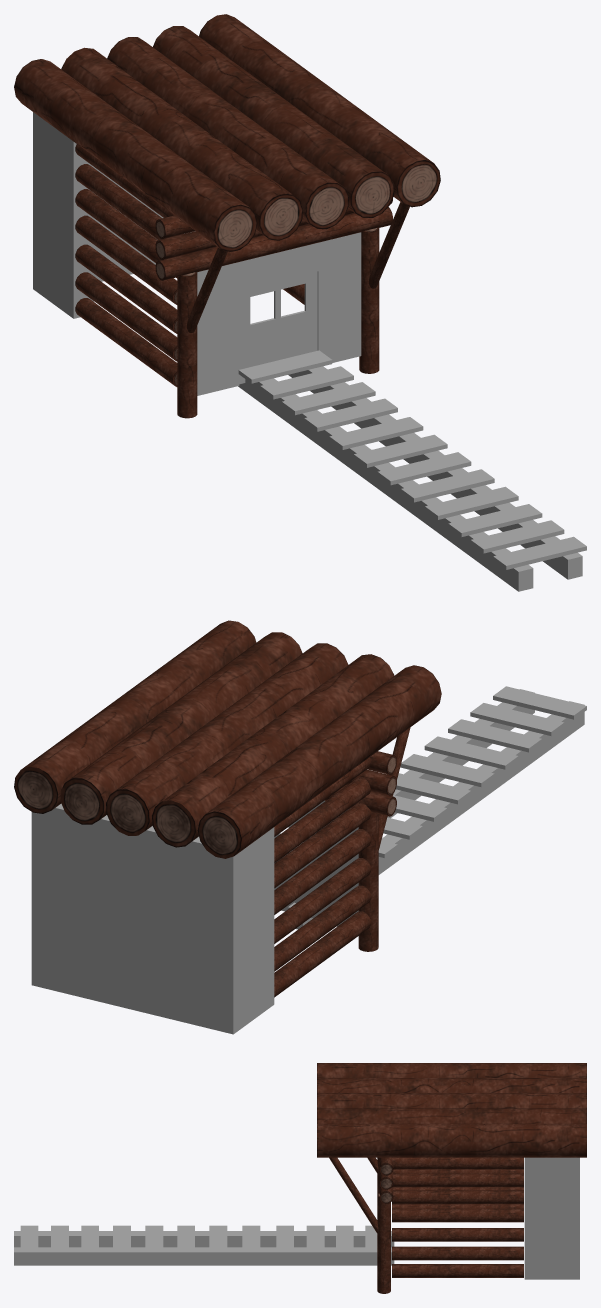
The model's file is MineShaft_Whole_GEO.fbx.
The picture shows the model from 3 angles, top to bottom: view 1: azimuth 30°, elevation 25°; view 2: azimuth 150°, elevation 25°; view 3: azimuth 270°, elevation 25°; orthographic projection. The views are drawn at different scales.
Parts seen in each view (by area): view 1: Horizontal_Log_GEO81, Door_Frame_GEO, Horizontal_Log_GEO85, Horizontal_Log_GEO83, Horizontal_Log_GEO84, Horizontal_Log_GEO82, Mine_Frame_GEO, Rail_GEO, Door_GEO, Horizontal_Log_GEO80, Rail_GEO1, Horizontal_Log_GEO87 (+23 smaller); view 2: Mine_Frame_GEO, Horizontal_Log_GEO81, Horizontal_Log_GEO85, Horizontal_Log_GEO83, Horizontal_Log_GEO84, Horizontal_Log_GEO82, Rail_GEO, Horizontal_Log_GEO74, Horizontal_Log_GEO76, Horizontal_Log_GEO70, Horizontal_Log_GEO72, Horizontal_Log_GEO66 (+16 smaller); view 3: Horizontal_Log_GEO85, Mine_Frame_GEO, Rail_GEO1, Horizontal_Log_GEO84, Horizontal_Log_GEO81, Horizontal_Log_GEO82, Horizontal_Log_GEO83, Rail_GEO, Horizontal_Log_GEO71, Horizontal_Log_GEO75, Horizontal_Log_GEO69, Horizontal_Log_GEO67 (+20 smaller).
Boxes of the visible parts, bbox=[...] form: Horizontal_Log_GEO81: bbox=[14, 59, 257, 251]; Door_Frame_GEO: bbox=[197, 232, 361, 395]; Horizontal_Log_GEO85: bbox=[199, 14, 440, 207]; Horizontal_Log_GEO83: bbox=[107, 37, 348, 229]; Horizontal_Log_GEO84: bbox=[153, 26, 394, 217]; Horizontal_Log_GEO82: bbox=[61, 47, 303, 240]; Mine_Frame_GEO: bbox=[33, 112, 195, 318]; Rail_GEO: bbox=[238, 378, 533, 591]; Door_GEO: bbox=[239, 271, 317, 384]; Horizontal_Log_GEO80: bbox=[155, 207, 392, 280]; Rail_GEO1: bbox=[288, 366, 582, 579]; Horizontal_Log_GEO87: bbox=[177, 272, 197, 418]; Mine_Frame_GEO: bbox=[31, 803, 274, 1034]; Horizontal_Log_GEO81: bbox=[197, 665, 441, 858]; Horizontal_Log_GEO85: bbox=[14, 620, 256, 813]; Horizontal_Log_GEO83: bbox=[106, 643, 348, 835]; Horizontal_Log_GEO84: bbox=[60, 632, 302, 824]; Horizontal_Log_GEO82: bbox=[152, 654, 394, 847]; Rail_GEO: bbox=[288, 701, 584, 929]; Horizontal_Log_GEO74: bbox=[274, 885, 371, 971]; Horizontal_Log_GEO76: bbox=[274, 911, 371, 997]; Horizontal_Log_GEO70: bbox=[274, 829, 371, 914]; Horizontal_Log_GEO72: bbox=[274, 858, 371, 943]; Horizontal_Log_GEO66: bbox=[274, 777, 371, 863]; Horizontal_Log_GEO85: bbox=[317, 1123, 586, 1157]; Mine_Frame_GEO: bbox=[524, 1157, 579, 1279]; Rail_GEO1: bbox=[14, 1247, 394, 1265]; Horizontal_Log_GEO84: bbox=[317, 1108, 586, 1123]; Horizontal_Log_GEO81: bbox=[317, 1063, 586, 1077]; Horizontal_Log_GEO82: bbox=[317, 1078, 586, 1092]; Horizontal_Log_GEO83: bbox=[317, 1093, 586, 1107]; Rail_GEO: bbox=[14, 1231, 394, 1247]; Horizontal_Log_GEO71: bbox=[392, 1208, 523, 1222]; Horizontal_Log_GEO75: bbox=[392, 1246, 523, 1260]; Horizontal_Log_GEO69: bbox=[392, 1190, 523, 1204]; Horizontal_Log_GEO67: bbox=[392, 1173, 523, 1187].
Bounding box in the file's own units: 459 × 470 × 1468.
